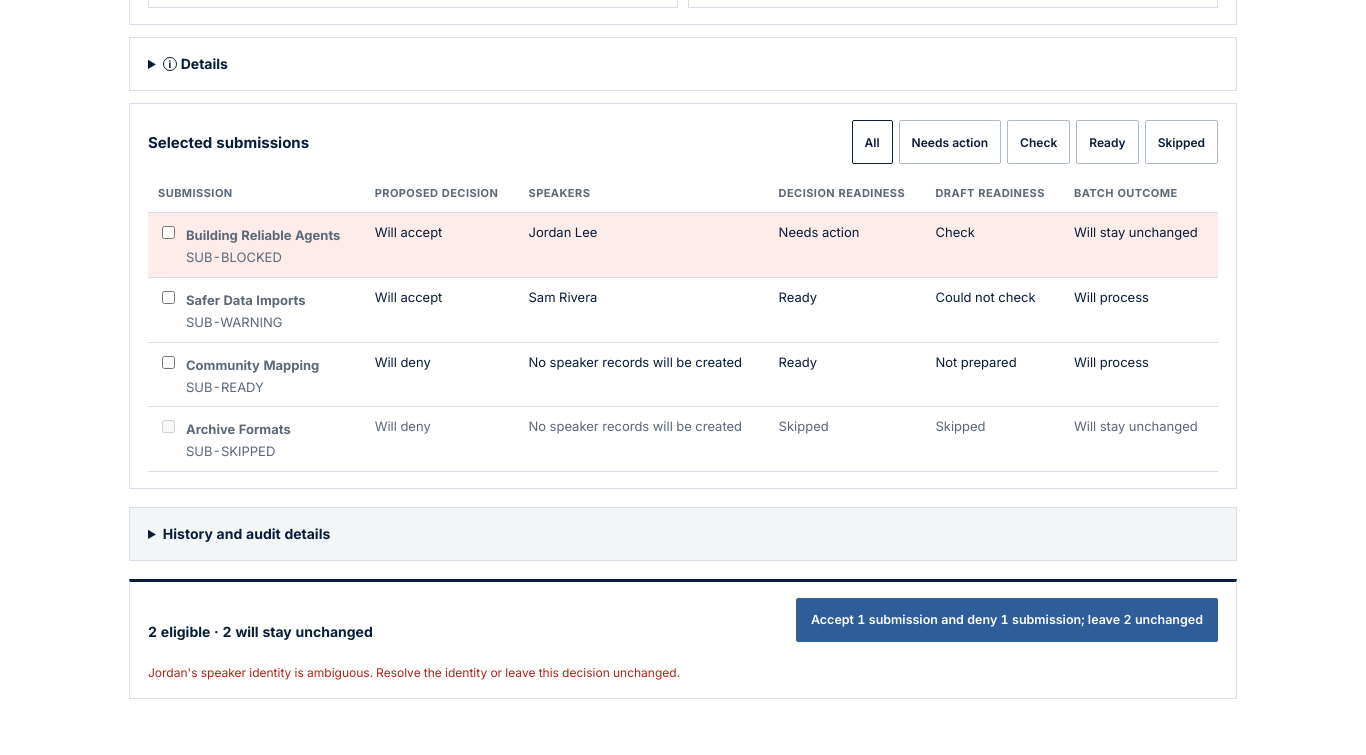
Test: decision exception review › keeps a long shared activity history exact and responsive
The width and height of the screenshot is (1366, 755).
(page scrolled)
What coordinates should you click on to do the following:
click the heading "History and audit details"
I would click on:
 (247, 534)
Its box is [163, 525, 330, 542].
(page scrolled)
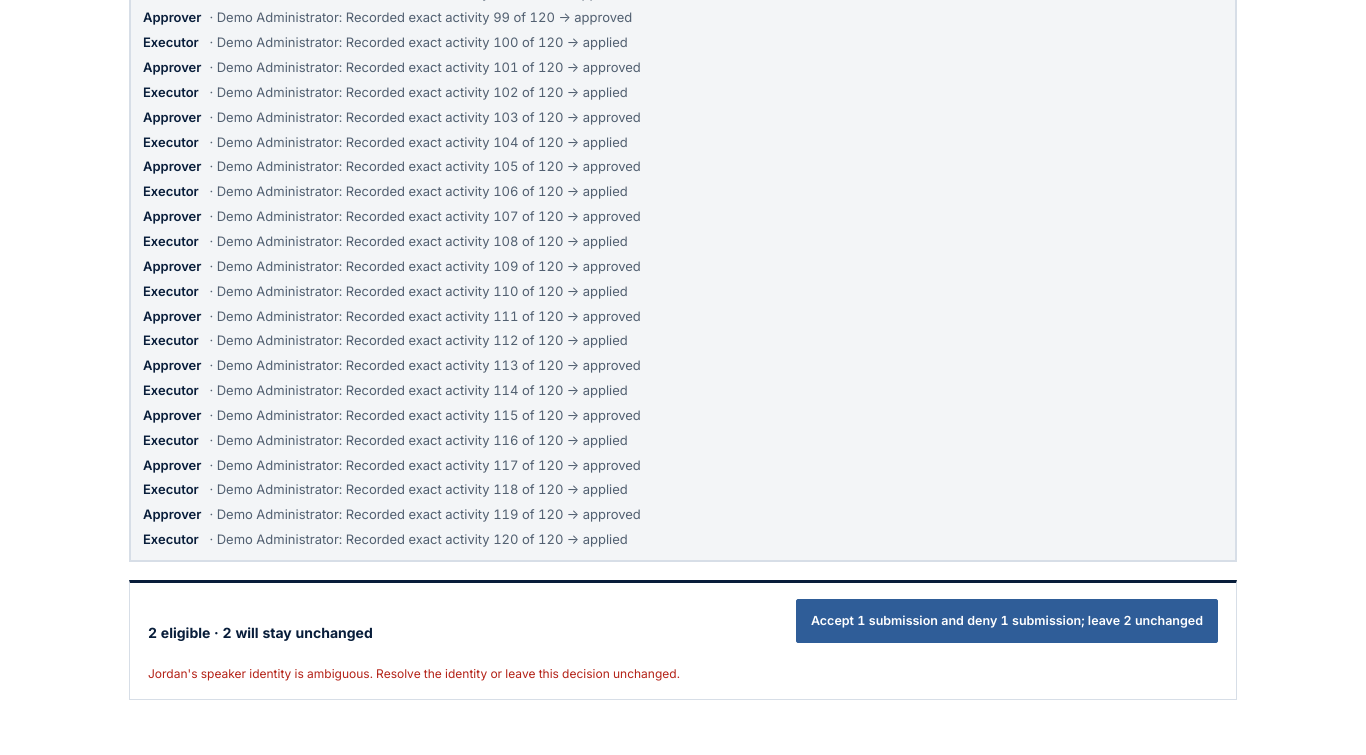
Expected: the list item "Recorded exact activity 120 of 120" is shown, [346, 531, 563, 547]
